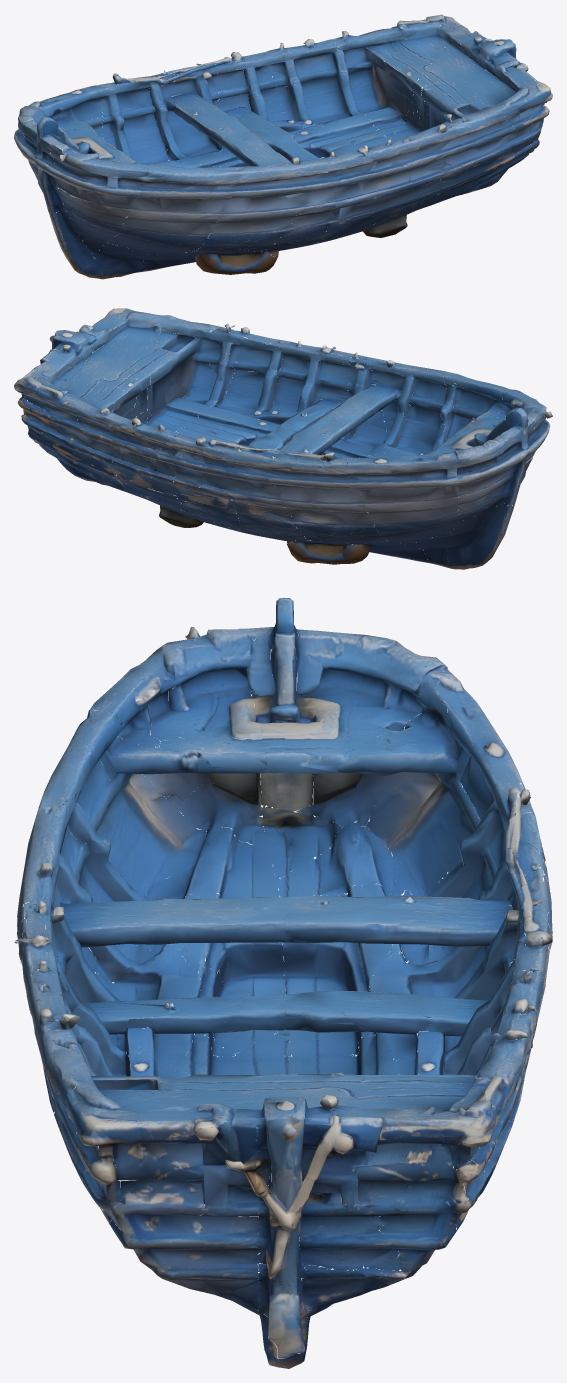
The model's file is boat.glb.
3 views of the same model, one above another, from view 1: azimuth 30°, elevation 25°; view 2: azimuth 150°, elevation 25°; view 3: azimuth 270°, elevation 25° (orthographic). The views are drawn at different scales.
Visible parts, largest first — view 1: tripo_node_e4431f01-5692-4796-ab51-7f8c5f3eaee5; view 2: tripo_node_e4431f01-5692-4796-ab51-7f8c5f3eaee5; view 3: tripo_node_e4431f01-5692-4796-ab51-7f8c5f3eaee5.
Boxes of the visible parts, <box> form: tripo_node_e4431f01-5692-4796-ab51-7f8c5f3eaee5: <box>14,14,552,279</box>; tripo_node_e4431f01-5692-4796-ab51-7f8c5f3eaee5: <box>14,308,552,569</box>; tripo_node_e4431f01-5692-4796-ab51-7f8c5f3eaee5: <box>14,598,552,1368</box>.
Size of the model in its own units: 1 by 0.3487 by 0.4924.
Materials: 1 (1 with a texture image).
